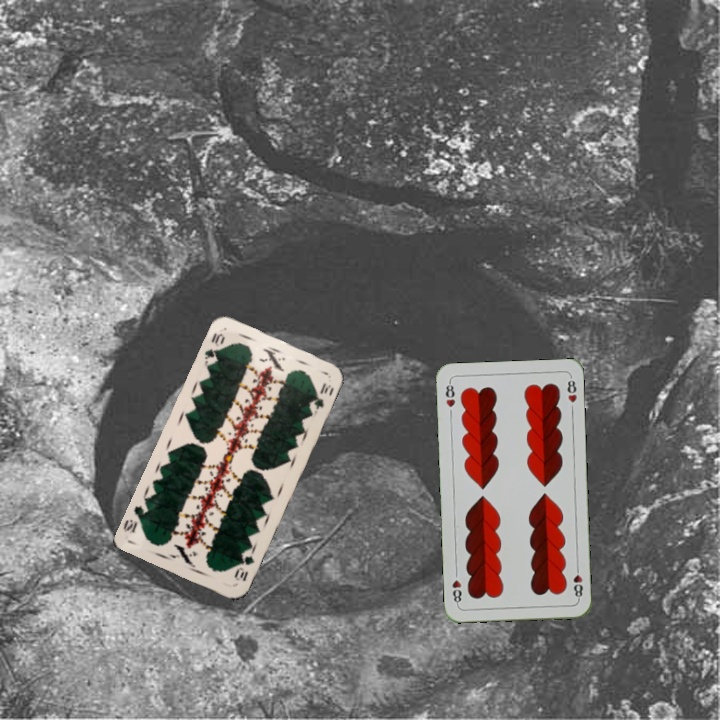G10: (200, 329, 227, 367), (231, 551, 257, 584)
H8: (569, 562, 585, 602), (442, 378, 458, 410)
